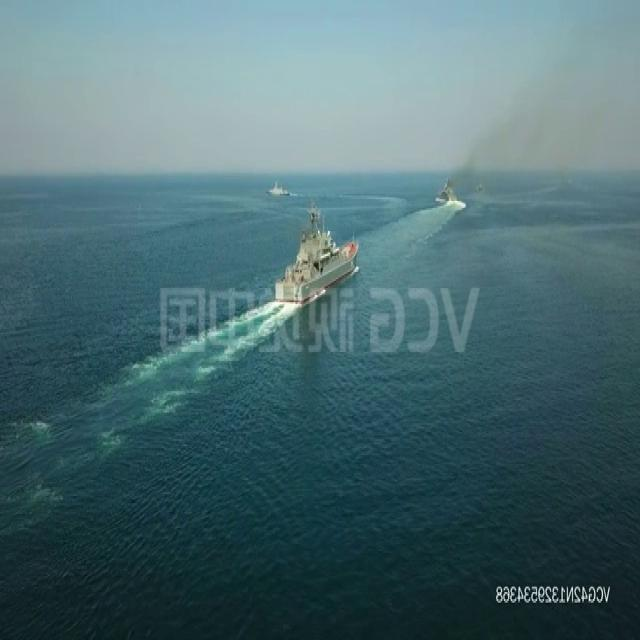navalvessels: (272, 203, 364, 310), (435, 175, 458, 203), (261, 178, 290, 196)
